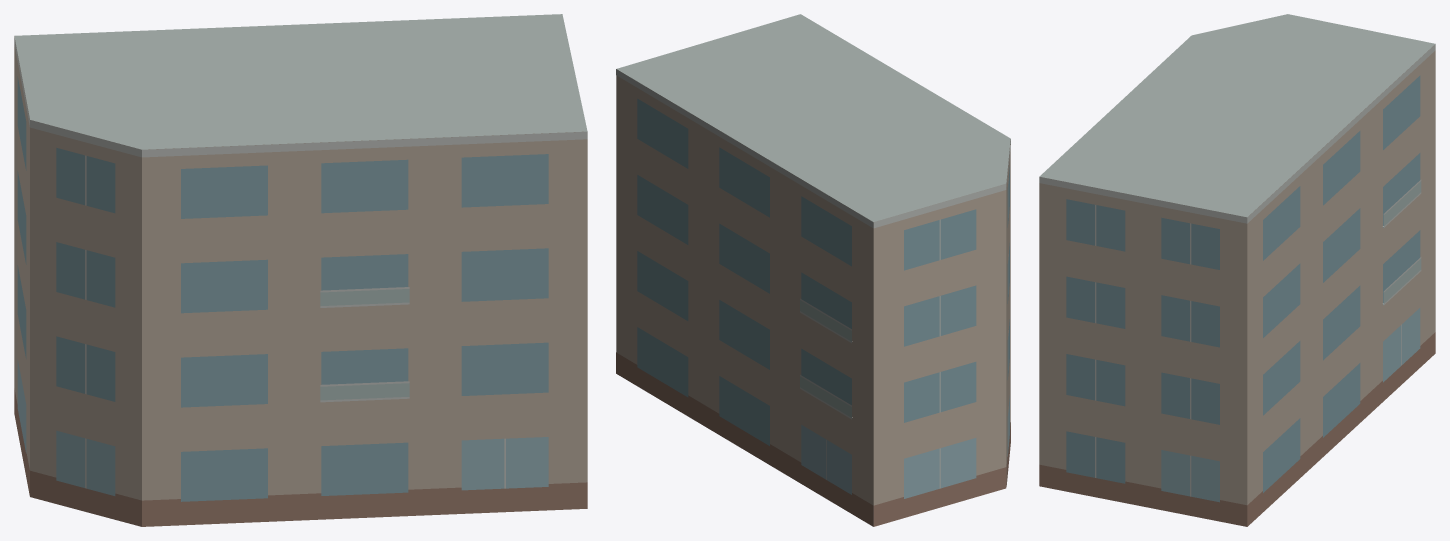
Rendered from survey-upis-32652602.glb.
3 views of the same model, side by side, from view 1: azimuth 30°, elevation 25°; view 2: azimuth 150°, elevation 25°; view 3: azimuth 270°, elevation 25° (orthographic). The views are drawn at different scales.
Parts seen in each view (by area): view 1: survey-upis-32652602.tmp; view 2: survey-upis-32652602.tmp; view 3: survey-upis-32652602.tmp.
Part boxes in pixels (x1=…): survey-upis-32652602.tmp: x1=14, y1=14, x2=587, y2=526; survey-upis-32652602.tmp: x1=616, y1=14, x2=1010, y2=526; survey-upis-32652602.tmp: x1=1039, y1=14, x2=1435, y2=526.
Bounding box in the file's own units: 16.7 × 11.85 × 13.76.
